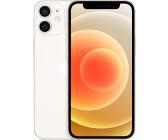Smartphone: (71, 2, 133, 135), (38, 0, 72, 139)
